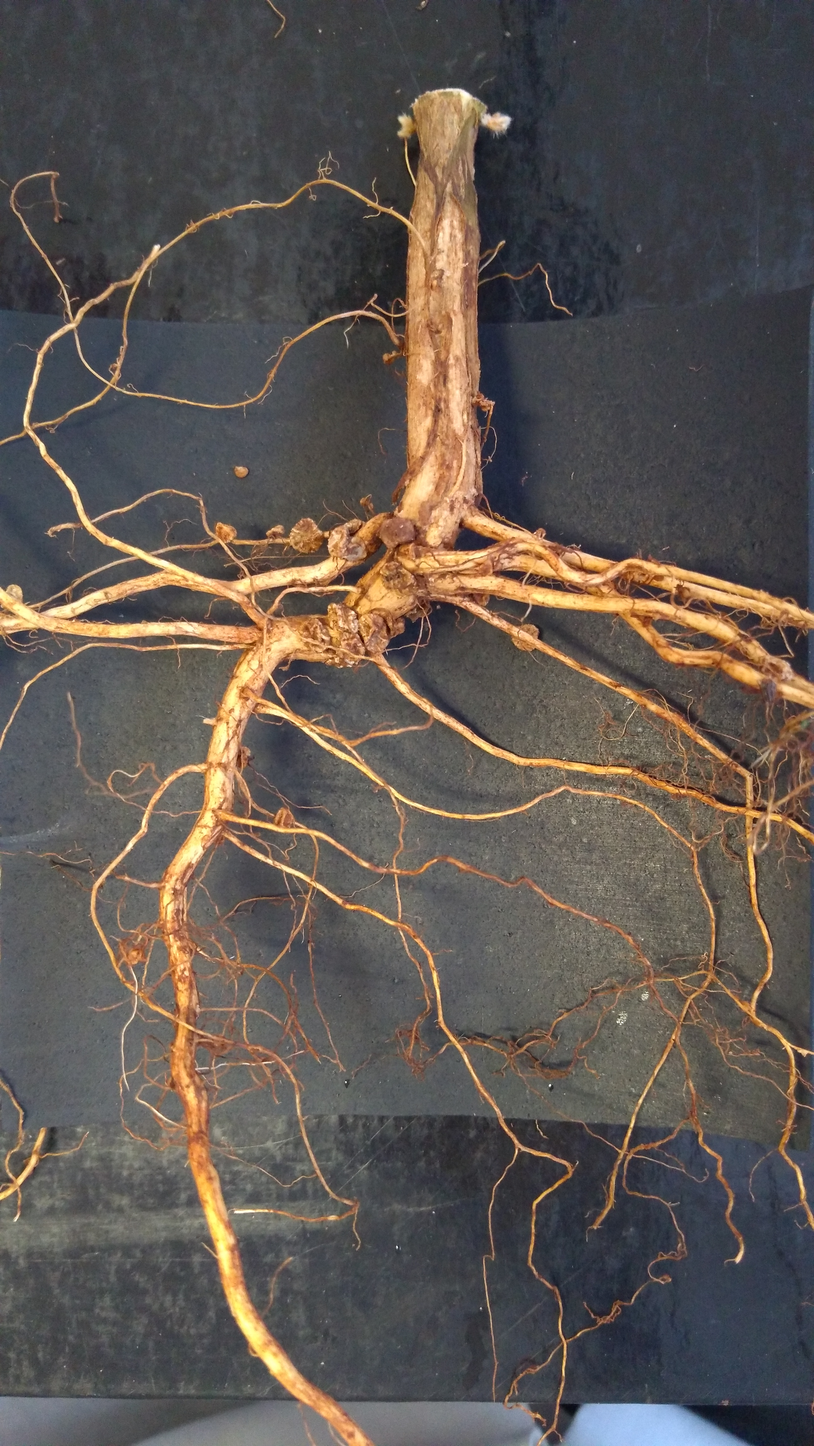nodule: (327, 515, 371, 566), (376, 514, 424, 550), (355, 611, 391, 655), (376, 555, 417, 592), (289, 514, 325, 556), (324, 601, 364, 638), (507, 621, 546, 656), (334, 629, 369, 665), (298, 617, 333, 653), (473, 559, 494, 607), (214, 519, 241, 547), (766, 655, 793, 683), (272, 805, 297, 829), (387, 614, 409, 641), (2, 582, 25, 607), (261, 522, 287, 539), (235, 743, 251, 770), (427, 267, 445, 291), (231, 464, 251, 478), (127, 945, 141, 965), (382, 352, 393, 366)
